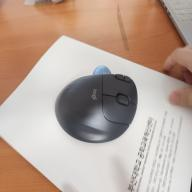mouse: (45, 52, 146, 146)
